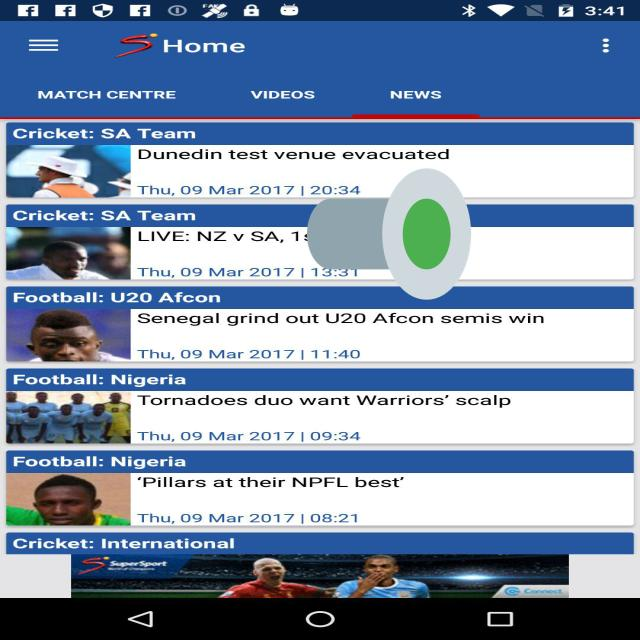social proof: (307, 113, 471, 355)
